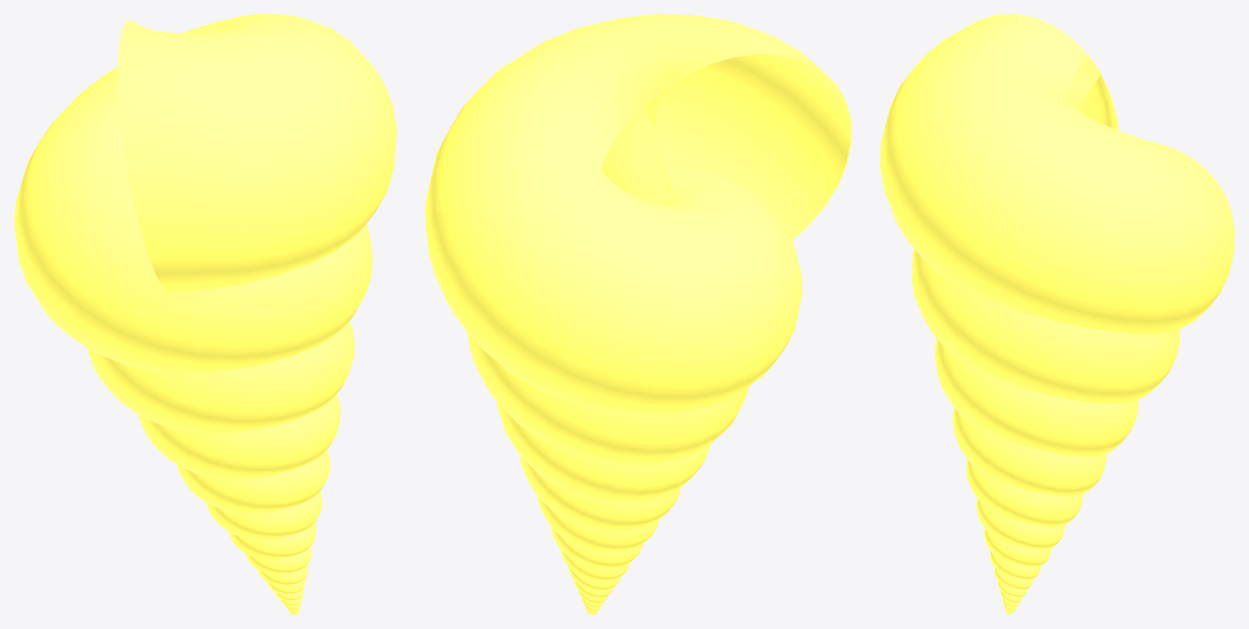
Rendered from Muschel.001.gltf.
The picture shows the model from 3 angles, left to right: view 1: azimuth 30°, elevation 25°; view 2: azimuth 150°, elevation 25°; view 3: azimuth 270°, elevation 25°; orthographic projection. The views are drawn at different scales.
Visible parts, largest first — view 1: Muschel.001; view 2: Muschel.001; view 3: Muschel.001.
Part boxes in pixels (bbox=[...]): Muschel.001: bbox=[14, 14, 396, 614]; Muschel.001: bbox=[425, 14, 851, 614]; Muschel.001: bbox=[880, 14, 1234, 614].
Size of the model in its own units: 1.19 by 2.11 by 1.28.
